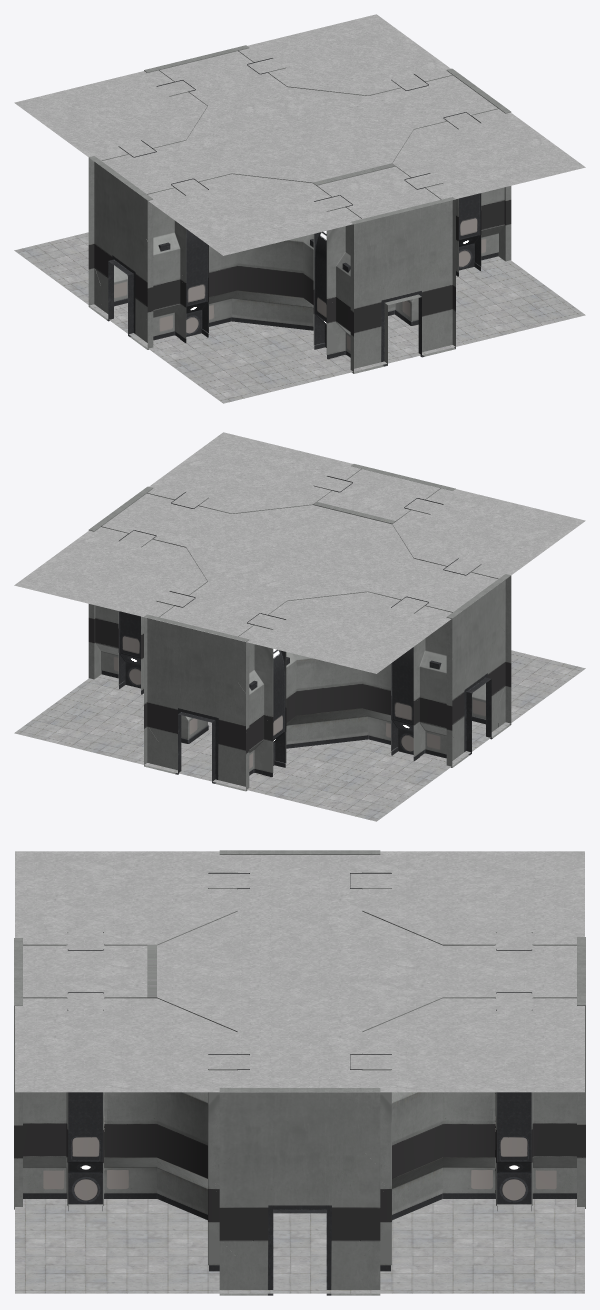
The picture shows the model from 3 angles, top to bottom: view 1: azimuth 30°, elevation 25°; view 2: azimuth 150°, elevation 25°; view 3: azimuth 270°, elevation 25°; orthographic projection. The views are drawn at different scales.
Visible parts, largest first — view 1: LCZ_CrossRoom_LOD0.001; view 2: LCZ_CrossRoom_LOD0.001; view 3: LCZ_CrossRoom_LOD0.001.
Part boxes in pixels (left/top/right/bottom): LCZ_CrossRoom_LOD0.001: left=14, top=14, right=585, bottom=403; LCZ_CrossRoom_LOD0.001: left=14, top=432, right=585, bottom=821; LCZ_CrossRoom_LOD0.001: left=14, top=850, right=585, bottom=1295.
Size of the model in its own units: 2094 by 827 by 2094.
Materials: 5 (5 with a texture image).
